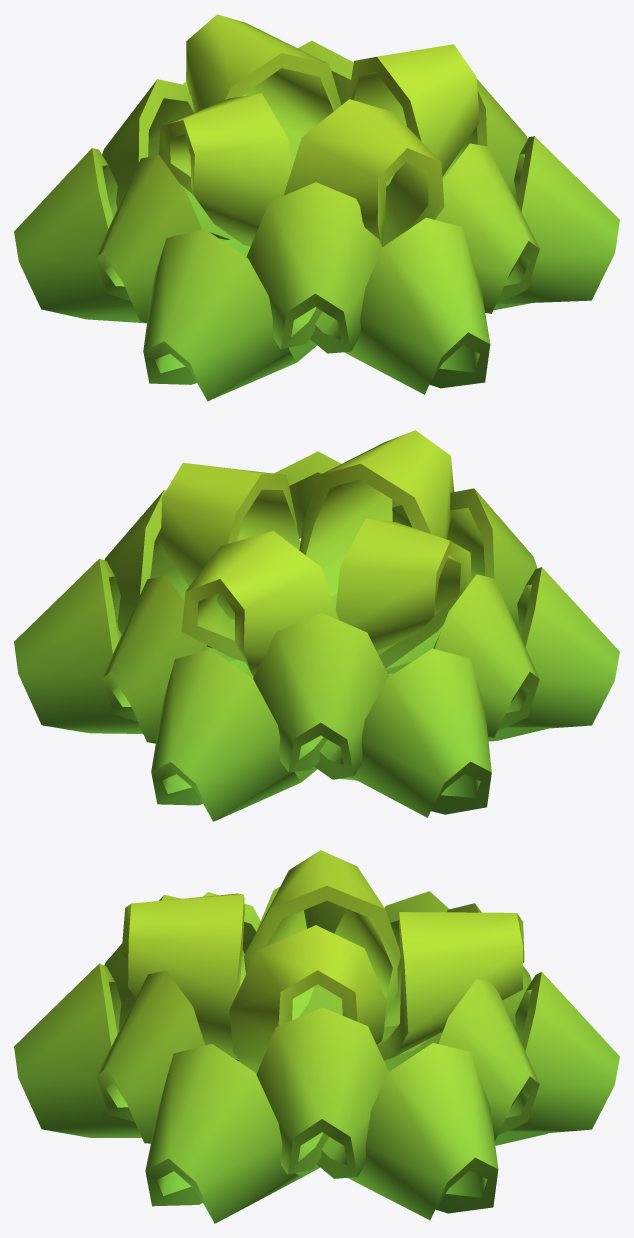
Rendered from bow_014.fbx.
3 renders of one model, top to bottom at view 1: azimuth 30°, elevation 25°; view 2: azimuth 150°, elevation 25°; view 3: azimuth 270°, elevation 25°, orthographic.
Visible parts, largest first — view 1: bow_014; view 2: bow_014; view 3: bow_014.
Part boxes in pixels (bbox=[...]): bow_014: bbox=[14, 14, 619, 401]; bow_014: bbox=[14, 430, 619, 821]; bow_014: bbox=[14, 850, 619, 1223].
Size of the model in its own units: 231 by 256 by 115.
